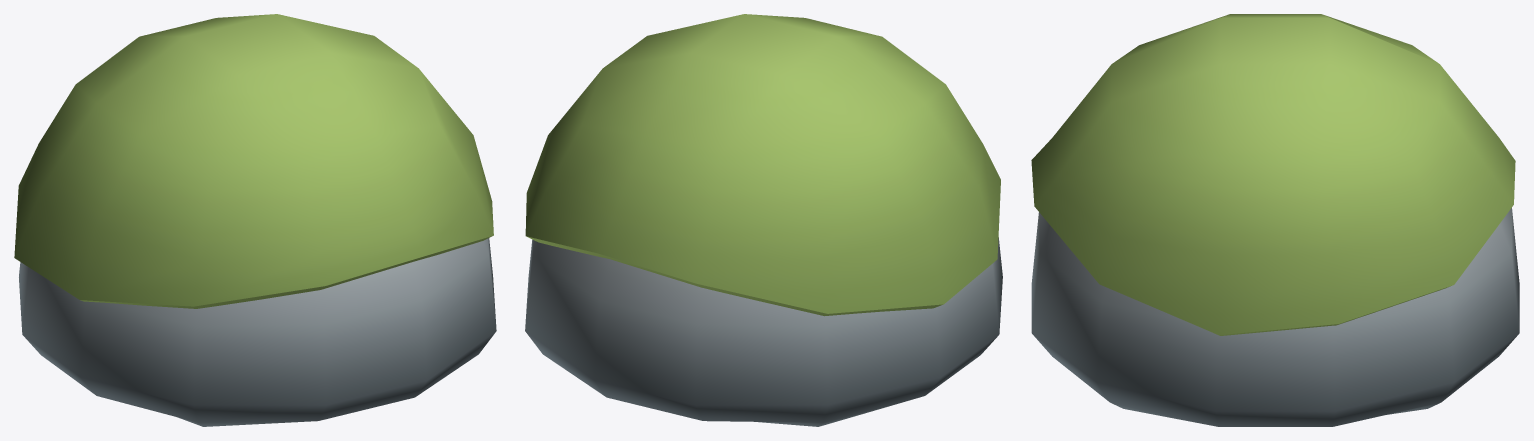
File: Furniture_Stone_2.fbx
3 renders of one model, left to right at view 1: azimuth 30°, elevation 25°; view 2: azimuth 150°, elevation 25°; view 3: azimuth 270°, elevation 25°, orthographic. The views are drawn at different scales.
Visible parts, largest first — view 1: Furniture_Stone_2; view 2: Furniture_Stone_2; view 3: Furniture_Stone_2.
Boxes of the visible parts, <box> form: Furniture_Stone_2: <box>14,14,496,426</box>; Furniture_Stone_2: <box>525,14,1002,426</box>; Furniture_Stone_2: <box>1031,14,1519,426</box>.
Size of the model in its own units: 100 by 69.27 by 99.04.
